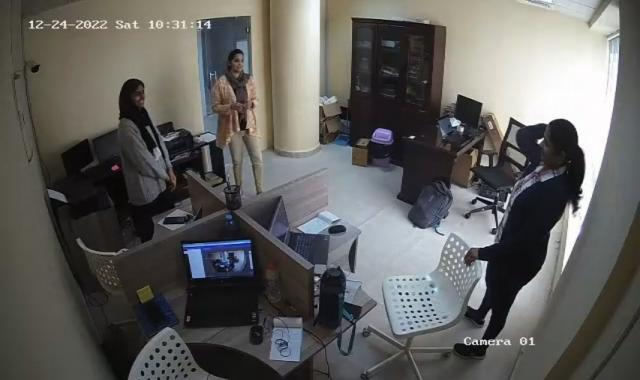no_hairnet: (538, 120, 580, 166), (118, 78, 146, 108), (226, 47, 247, 76)
